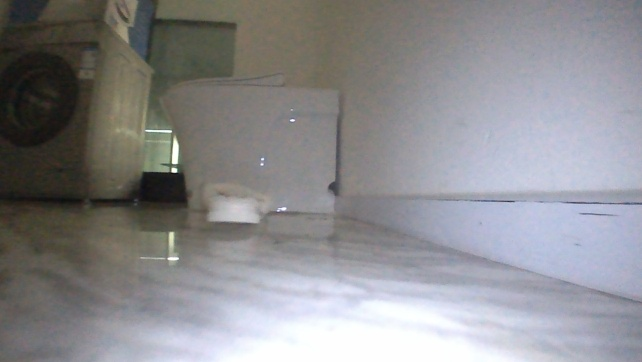shoe: (200, 179, 271, 225)
toilet: (157, 68, 340, 215)
washing_machine: (0, 15, 154, 206)
